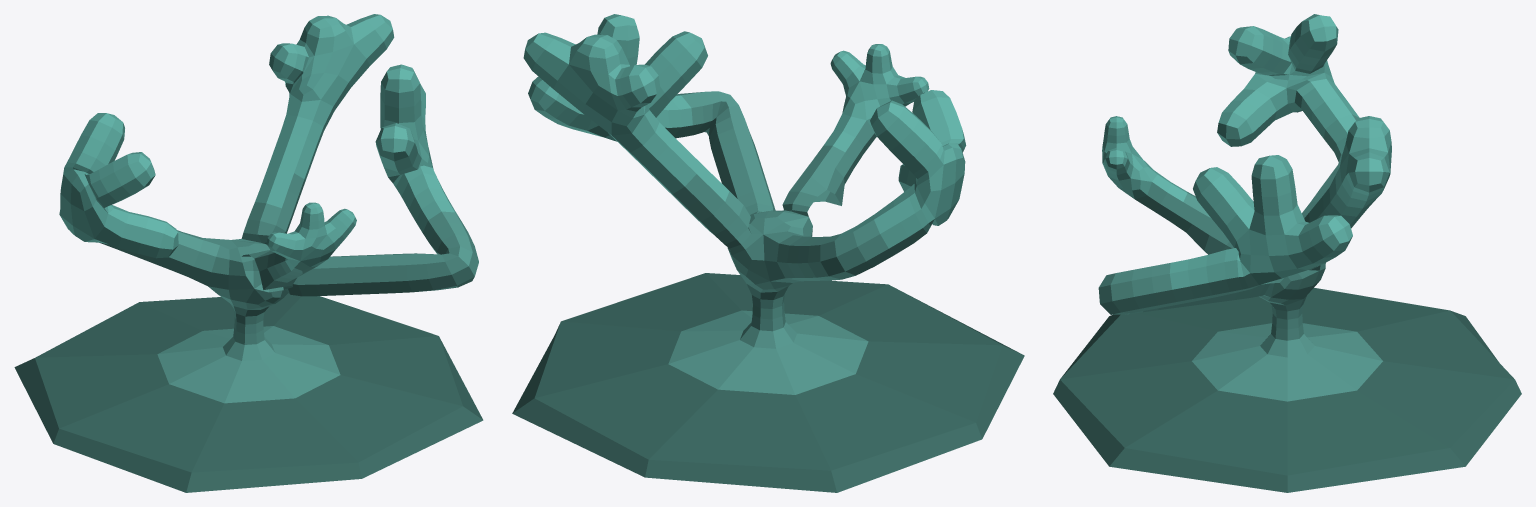
The model's file is PLAECHOLDER_Ghost_Hands.fbx.
3 views of the same model, side by side, from view 1: azimuth 30°, elevation 25°; view 2: azimuth 150°, elevation 25°; view 3: azimuth 270°, elevation 25° (orthographic). The views are drawn at different scales.
Parts seen in each view (by area): view 1: Plane; view 2: Plane; view 3: Plane.
Boxes of the visible parts, x1=… form: Plane: x1=14, y1=14, x2=483, y2=492; Plane: x1=512, y1=14, x2=1024, y2=492; Plane: x1=1053, y1=14, x2=1521, y2=492.
Size of the model in its own units: 504 by 401 by 504.
Materials: 1 (1 with a texture image).
